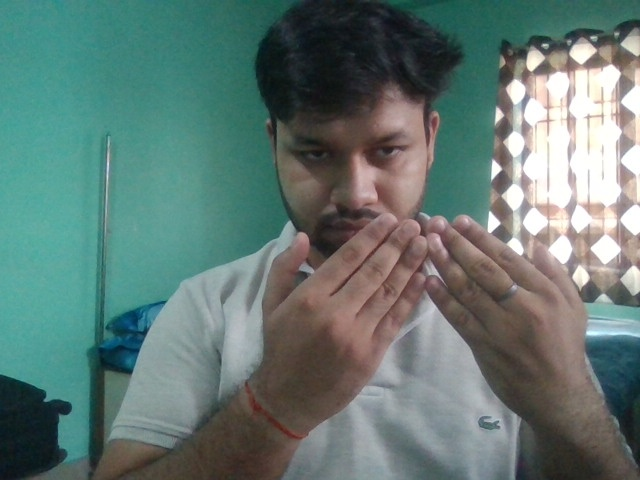Thank You: (257, 210, 592, 418)
